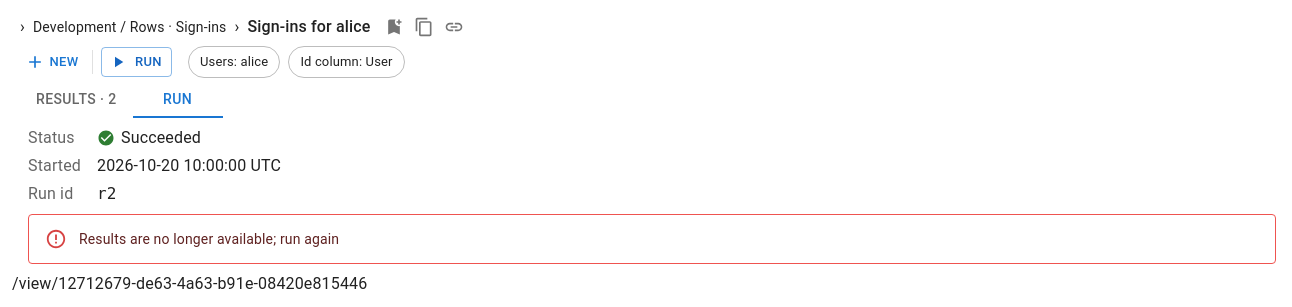
Scenario: ActionTab › says when the last run’s results could not be loaded
Click the tab "Results · 2" at (76, 100), box [20,82,133,118]
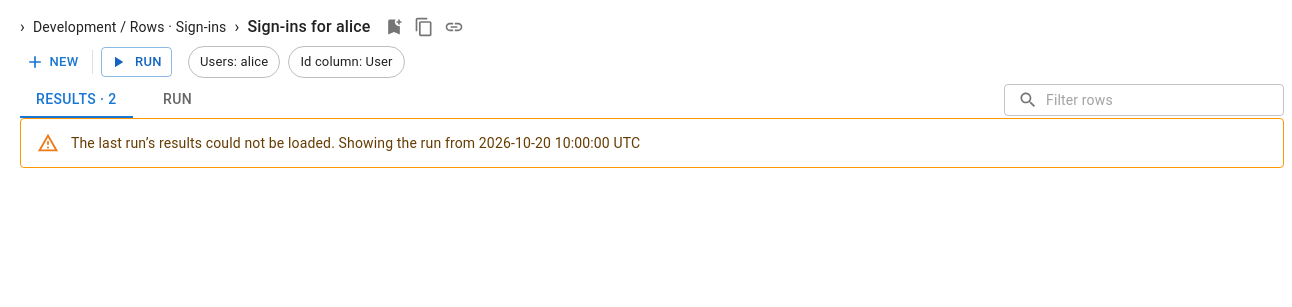
Result: the text "The last run’s results could not be loaded. Showing the run from 2026-10-20 10:00:00 UTC" is shown at [71,135,640,151]
